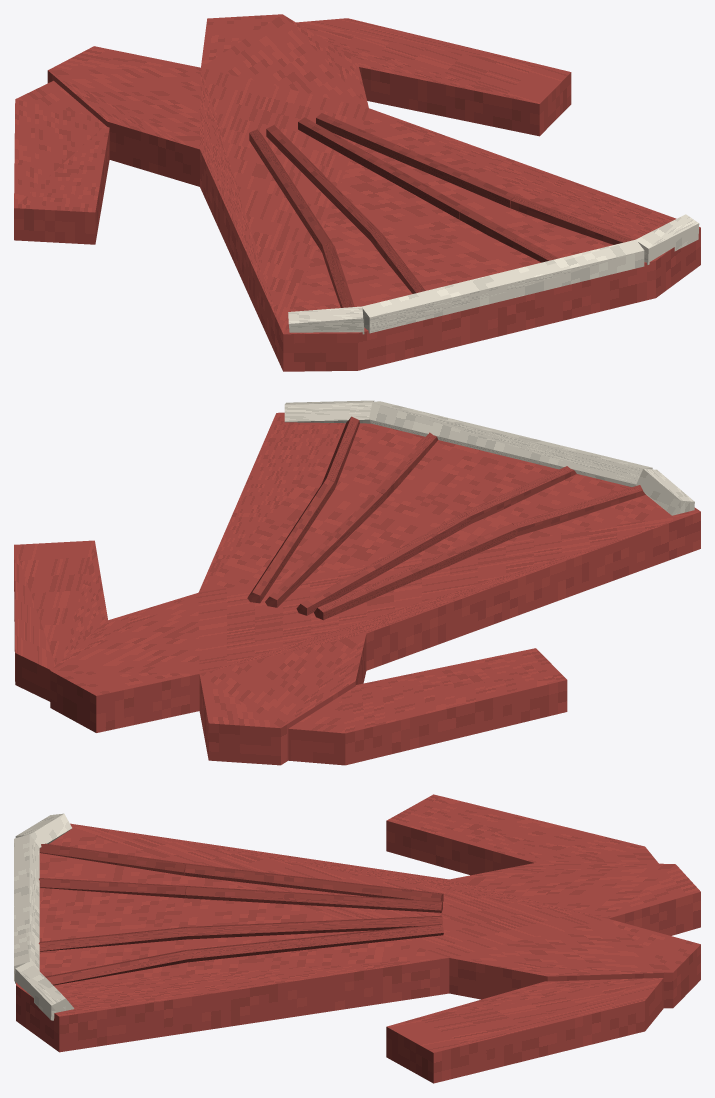
Rendered from santa_dress_long.glb.
3 renders of one model, top to bottom at view 1: azimuth 30°, elevation 25°; view 2: azimuth 150°, elevation 25°; view 3: azimuth 270°, elevation 25°, orthographic. The views are drawn at different scales.
Parts seen in each view (by area): view 1: block_fitted dress and flared skirt, block_long dress sleeve (×2), block_fabric fold 0 (×4), block_bright hem trim 1, block_fabric fold 1 (×4), block_bright hem trim 0, block_bright hem trim 2; view 2: block_fitted dress and flared skirt, block_long dress sleeve (×2), block_fabric fold 0 (×4), block_bright hem trim 1, block_fabric fold 1 (×4), block_bright hem trim 2, block_bright hem trim 0; view 3: block_fitted dress and flared skirt, block_long dress sleeve (×2), block_fabric fold 0 (×4), block_fabric fold 1 (×4), block_bright hem trim 1, block_bright hem trim 2, block_bright hem trim 0.
Boxes of the visible parts, x1,y1,x2,y2 form: block_fitted dress and flared skirt: (47, 14, 700, 371); block_long dress sleeve (×2): (14, 18, 571, 244); block_fabric fold 0 (×4): (249, 113, 515, 251); block_bright hem trim 1: (361, 239, 644, 333); block_fabric fold 1 (×4): (322, 195, 633, 307); block_bright hem trim 0: (288, 306, 364, 334); block_bright hem trim 2: (636, 214, 699, 264); block_fitted dress and flared skirt: (50, 412, 700, 765); block_long dress sleeve (×2): (14, 540, 567, 765); block_fabric fold 0 (×4): (247, 478, 517, 620); block_bright hem trim 1: (369, 401, 652, 486); block_fabric fold 1 (×4): (322, 416, 645, 535); block_bright hem trim 2: (284, 400, 374, 423); block_bright hem trim 0: (636, 469, 694, 515); block_fitted dress and flared skirt: (16, 823, 700, 1052); block_long dress sleeve (×2): (386, 794, 663, 1083); block_fabric fold 0 (×4): (185, 863, 443, 962); block_fabric fold 1 (×4): (38, 843, 188, 985); block_bright hem trim 1: (14, 834, 39, 981); block_bright hem trim 2: (15, 962, 74, 1020); block_bright hem trim 0: (15, 813, 71, 848).
Size of the model in its own units: 0.6644 by 0.0642 by 0.746.
1 material, 1 textured.
